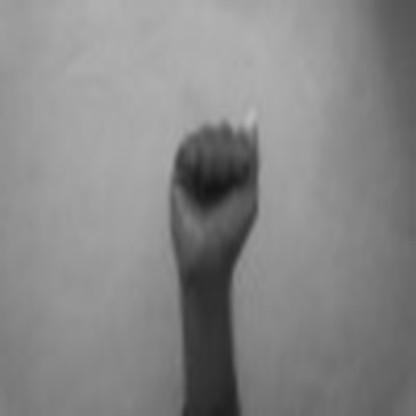a: (163, 106, 274, 270)
